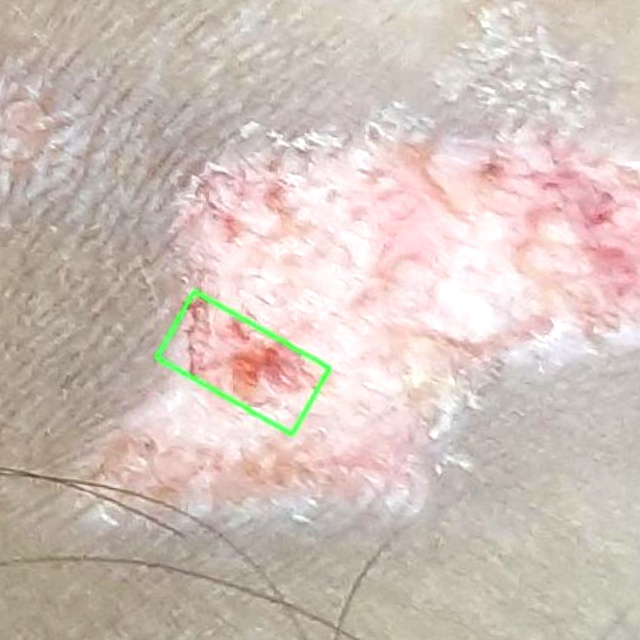Eczema: (156, 290, 329, 433)
